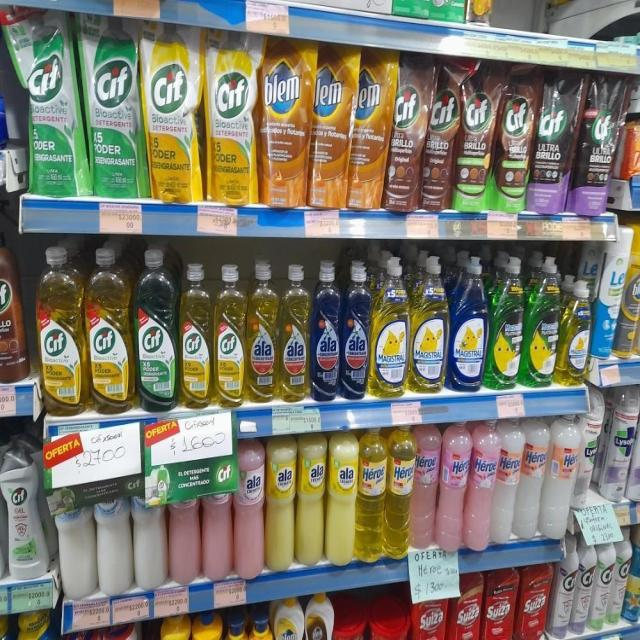ala_conc_amarillo: (247, 261, 278, 404), (280, 262, 310, 403)
ala_conc_azul: (311, 260, 340, 401), (341, 260, 370, 400)
ala_crem_amarillo: (266, 438, 295, 573), (327, 432, 356, 566), (297, 436, 325, 568)
ala_crem_rosado: (234, 440, 264, 580)
cif_conc_bot_amarilla: (37, 243, 84, 415), (86, 244, 132, 413), (180, 261, 212, 409), (214, 262, 245, 408)
cif_conc_botella_verde: (135, 247, 177, 411)
cif_conc_sachet_amarillo: (146, 24, 202, 203), (207, 31, 258, 205)
cif_conc_sachet_verde: (27, 9, 86, 198), (89, 17, 143, 199)
heroe: (357, 427, 385, 562), (385, 424, 412, 558), (413, 424, 438, 552)
magistral_con_amarillo: (371, 255, 409, 398), (410, 255, 448, 394), (561, 278, 591, 386), (624, 243, 640, 359)
magistral_con_azul: (449, 254, 487, 392)
